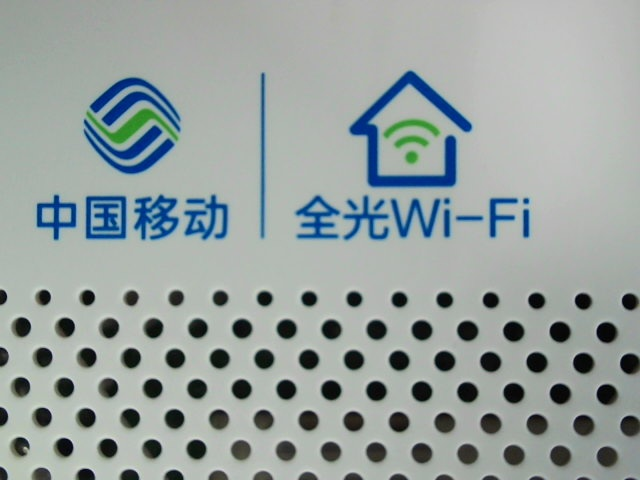BJ_QuanGuangMobile: (29, 68, 540, 253)
